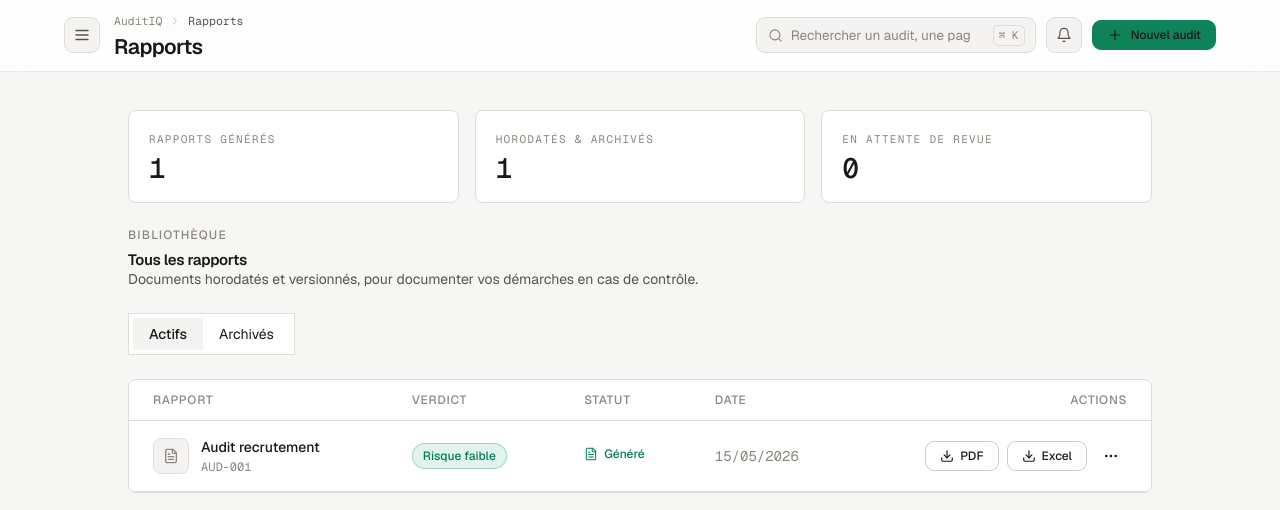
Scenario: RapportsPage › shows an empty message when no archived reports
Click the tab "Archivés".
click(246, 334)  # box x1=203 y1=318 x2=290 y2=350
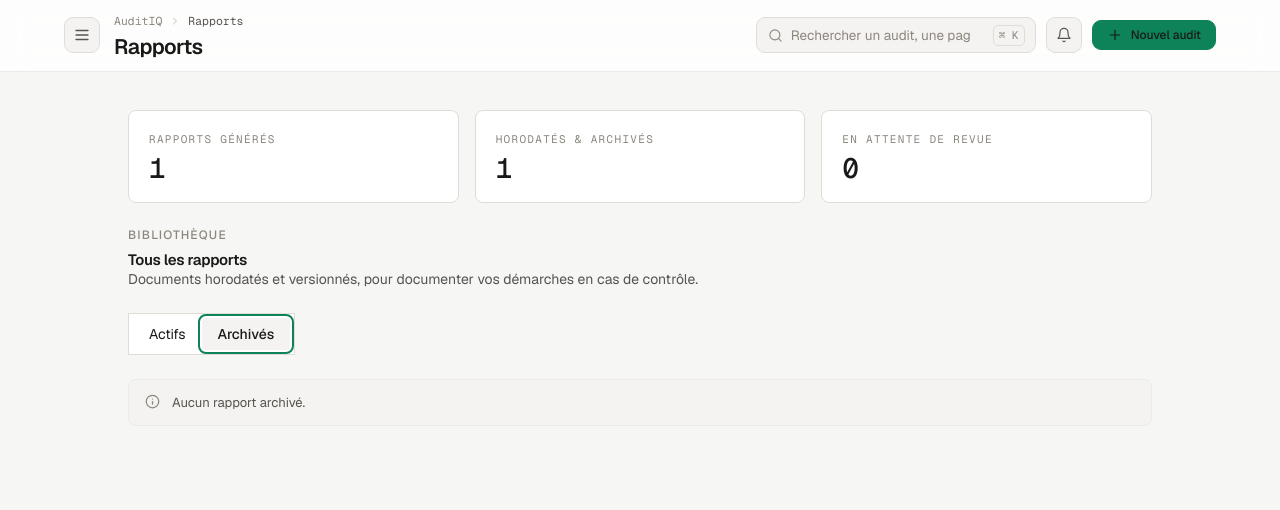
Now the text "Aucun rapport archivé." is shown, box x1=172 y1=392 x2=305 y2=413
